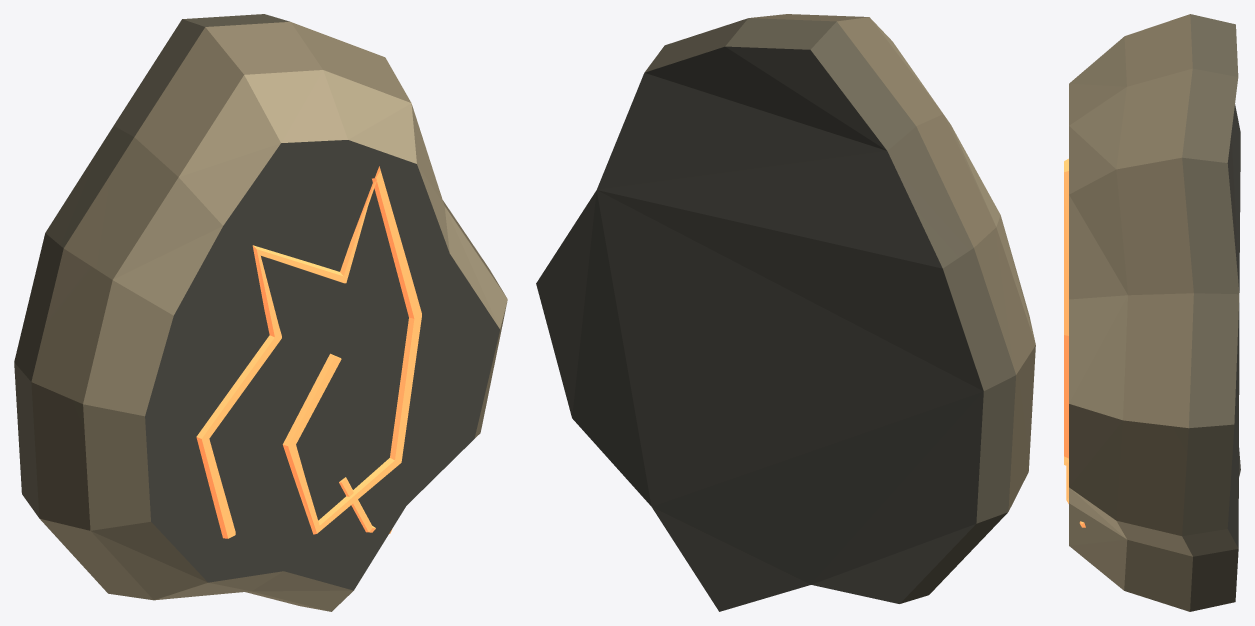
Rendered from FERNSTONE_EMBER.hi.glb.
3 views of the same model, side by side, from view 1: azimuth 30°, elevation 25°; view 2: azimuth 150°, elevation 25°; view 3: azimuth 270°, elevation 25° (orthographic). The views are drawn at different scales.
Visible parts, largest first — view 1: Body_Mesh; view 2: Body_Mesh; view 3: Body_Mesh.
Part boxes in pixels (x1,y1,x2,y2): Body_Mesh: (14,14,507,611); Body_Mesh: (536,14,1035,611); Body_Mesh: (1064,14,1240,611).
Size of the model in its own units: 0.2902 by 0.3632 by 0.1048.
1 material, 1 textured.
